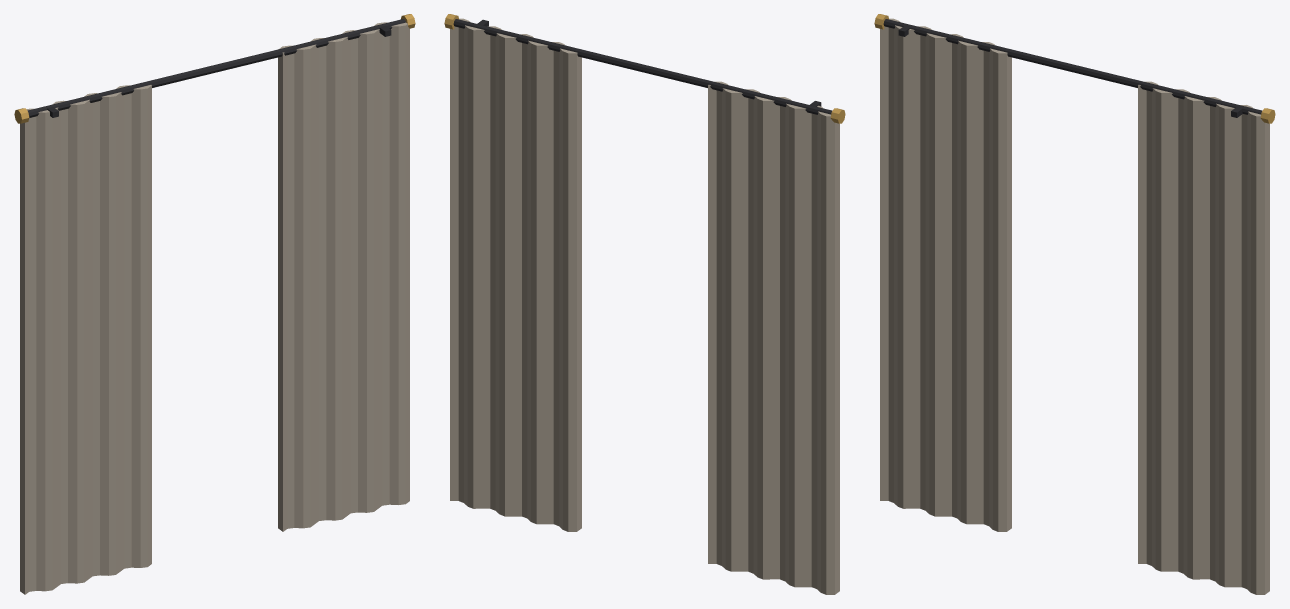
Rendered from FN_Curtain_Pair.obj.
3 renders of one model, left to right at view 1: azimuth 30°, elevation 25°; view 2: azimuth 150°, elevation 25°; view 3: azimuth 330°, elevation 25°, orthographic.
Visible parts, largest first — view 1: FN_Curtain_Pair; view 2: FN_Curtain_Pair; view 3: FN_Curtain_Pair.
Part boxes in pixels (x1=…): FN_Curtain_Pair: x1=14, y1=14, x2=415, y2=594; FN_Curtain_Pair: x1=444, y1=14, x2=845, y2=594; FN_Curtain_Pair: x1=874, y1=14, x2=1275, y2=594.
Bounding box in the file's own units: 1.8 × 2.12 × 0.0931.
1 material, 1 textured.
